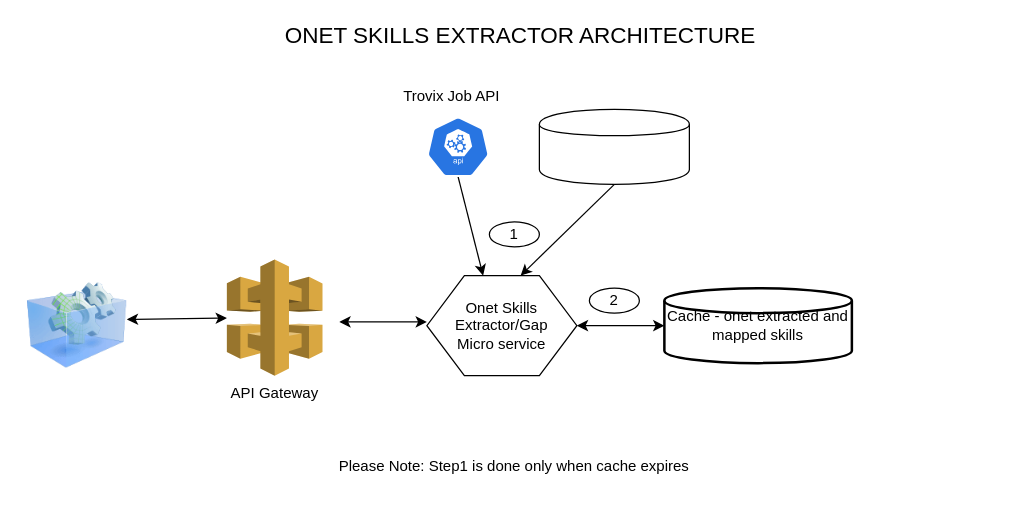
The diagram is 1011 pixels wide and 506 high, and some of its shapes have lost their labels. The centre of each missing label's shape, as x and y in pixels:
MGS Application: point (76, 325)
Onet Skills Database: point (613, 146)
